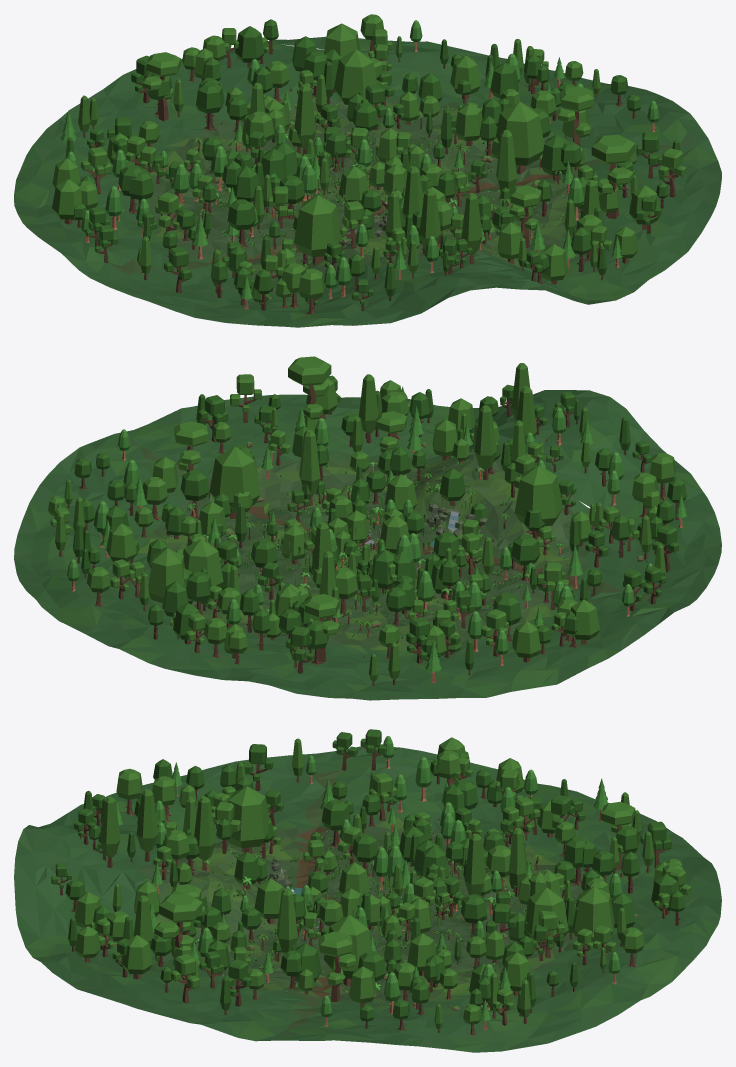
The model's file is world_rainforest.glb.
3 views of the same model, one above another, from view 1: azimuth 30°, elevation 25°; view 2: azimuth 150°, elevation 25°; view 3: azimuth 270°, elevation 25° (orthographic).
Parts seen in each view (by area): view 1: Sector7, Sector0, Sector2, Sector1, Sector6, Sector3, Sector5, Sector4; view 2: Sector1, Sector6, Sector0, Sector7, Sector3, Sector5, Sector4, Sector2; view 3: Sector5, Sector2, Sector4, Sector3, Sector1, Sector0, Sector7, Sector6.
Part boxes in pixels (left/top/right/bottom): Sector7: left=14, top=135, right=343, bottom=261; Sector0: left=61, top=166, right=368, bottom=326; Sector2: left=380, top=134, right=710, bottom=304; Sector1: left=282, top=166, right=545, bottom=327; Sector6: left=26, top=35, right=340, bottom=195; Sector3: left=380, top=86, right=721, bottom=217; Sector5: left=218, top=14, right=457, bottom=189; Sector4: left=369, top=39, right=672, bottom=195; Sector1: left=370, top=363, right=707, bottom=557; Sector6: left=196, top=522, right=463, bottom=700; Sector0: left=369, top=465, right=721, bottom=611; Sector7: left=369, top=533, right=674, bottom=697; Sector3: left=60, top=374, right=369, bottom=552; Sector5: left=27, top=528, right=359, bottom=675; Sector4: left=14, top=458, right=351, bottom=590; Sector2: left=271, top=356, right=542, bottom=555; Sector5: left=383, top=868, right=721, bottom=1014; Sector2: left=14, top=860, right=329, bottom=1003; Sector4: left=354, top=894, right=618, bottom=1052; Sector3: left=122, top=888, right=385, bottom=1042; Sector1: left=14, top=768, right=349, bottom=905; Sector0: left=112, top=732, right=378, bottom=903; Sector7: left=350, top=729, right=609, bottom=901; Sector6: left=383, top=778, right=721, bottom=914.
Bounding box in the file's own units: 380 × 65.18 × 380.
